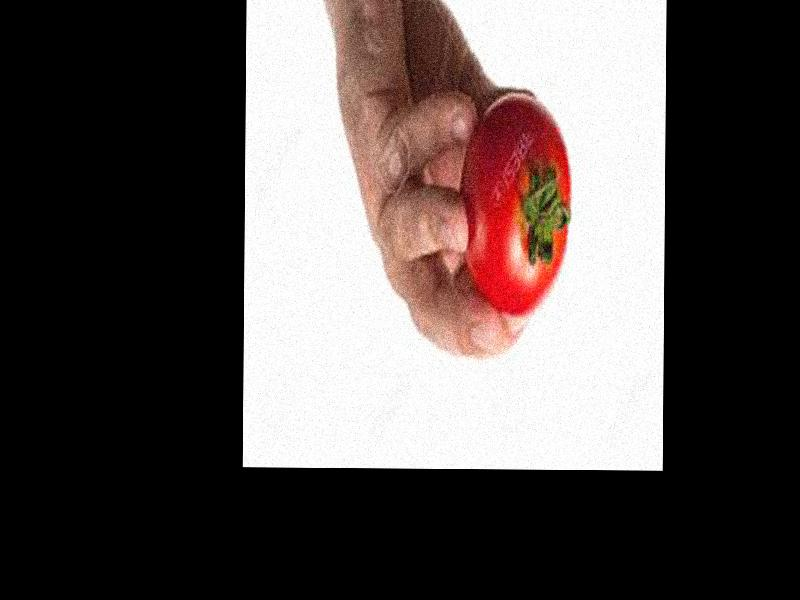Tomato: (461, 95, 572, 316)
